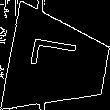L_E: (29, 43, 87, 82)
